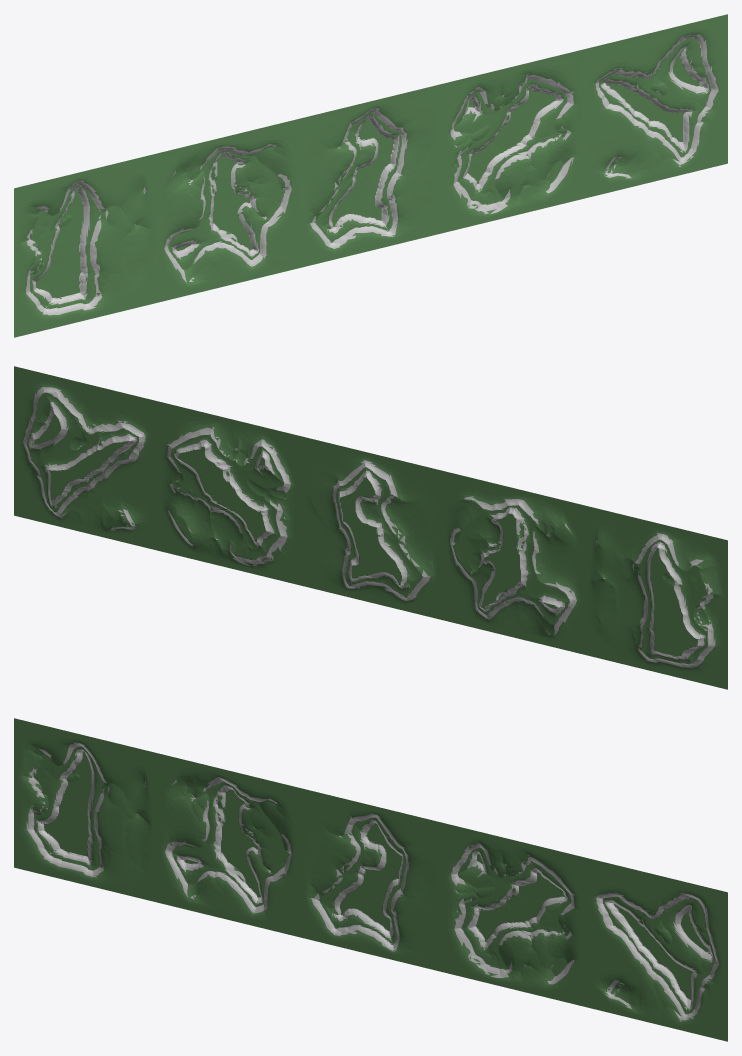
File: High Poly Terrain.fbx
The picture shows the model from 3 angles, top to bottom: view 1: azimuth 30°, elevation 25°; view 2: azimuth 150°, elevation 25°; view 3: azimuth 330°, elevation 25°; orthographic projection.
Parts seen in each view (by area): view 1: Terrain 4, Terrain 1, Terrain 5, Terrain 3, Terrain 2; view 2: Terrain 1, Terrain 5, Terrain 4, Terrain 3, Terrain 2; view 3: Terrain 4, Terrain 1, Terrain 5, Terrain 3, Terrain 2.
Part boxes in pixels (bbox=[...]): Terrain 4: bbox=[442, 49, 585, 233]; Terrain 1: bbox=[156, 118, 299, 302]; Terrain 5: bbox=[299, 84, 442, 267]; Terrain 3: bbox=[585, 14, 727, 198]; Terrain 2: bbox=[14, 153, 156, 337]; Terrain 1: bbox=[442, 470, 585, 654]; Terrain 5: bbox=[299, 436, 442, 619]; Terrain 4: bbox=[156, 401, 299, 585]; Terrain 3: bbox=[14, 366, 156, 550]; Terrain 2: bbox=[585, 505, 727, 689]; Terrain 4: bbox=[442, 822, 585, 1006]; Terrain 1: bbox=[156, 753, 299, 937]; Terrain 5: bbox=[299, 788, 442, 971]; Terrain 3: bbox=[585, 857, 727, 1041]; Terrain 2: bbox=[14, 718, 156, 902].
Bounding box in the file's own units: 1000 × 200 × 10.02.
